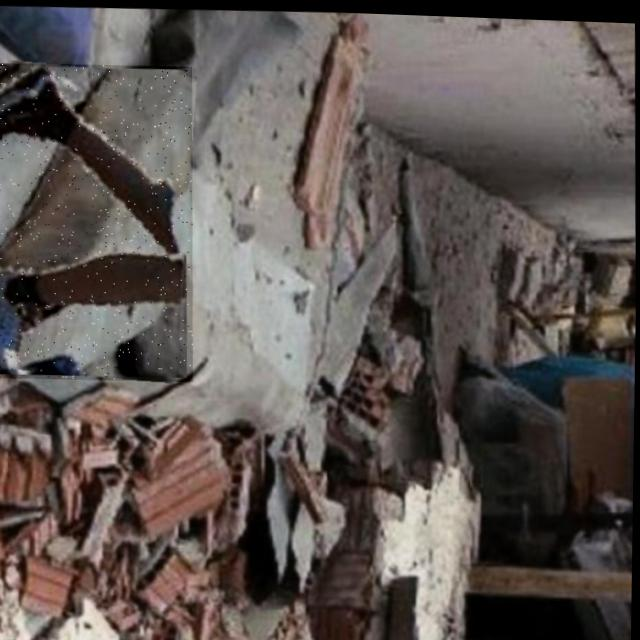Person in Rubble: (0, 59, 195, 383)
